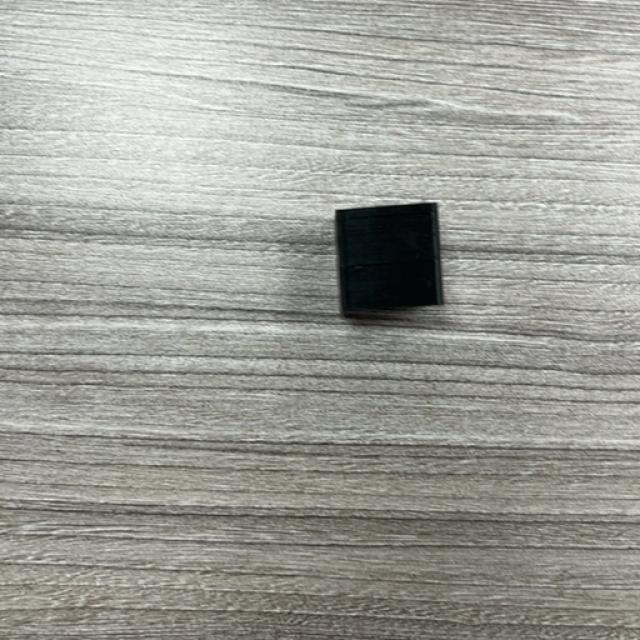Negro: (334, 204, 446, 319)
